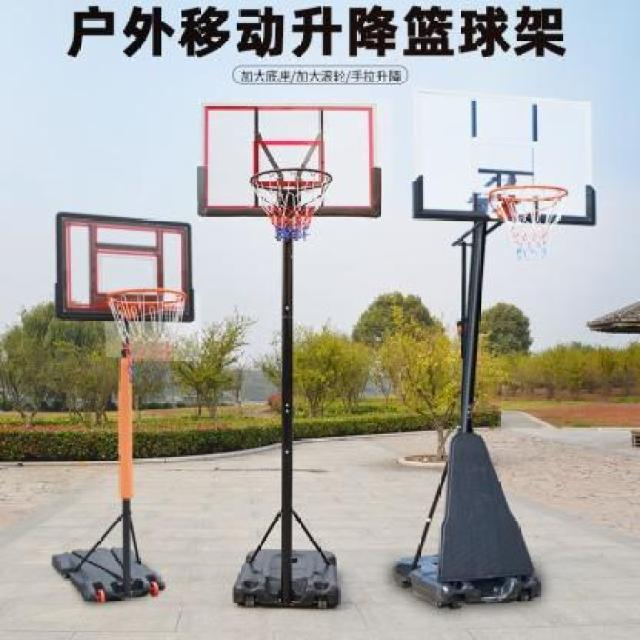rim: (106, 286, 186, 362), (487, 187, 569, 261), (252, 170, 334, 242)
